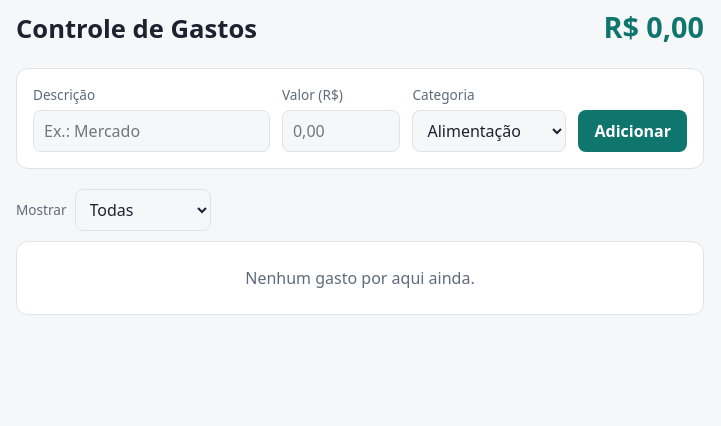
Scenario: App › mostra os erros e não adiciona nada quando o formulário está errado
Type "X" into the field labelled "Descrição" at (152, 131), box [33,110,270,152]
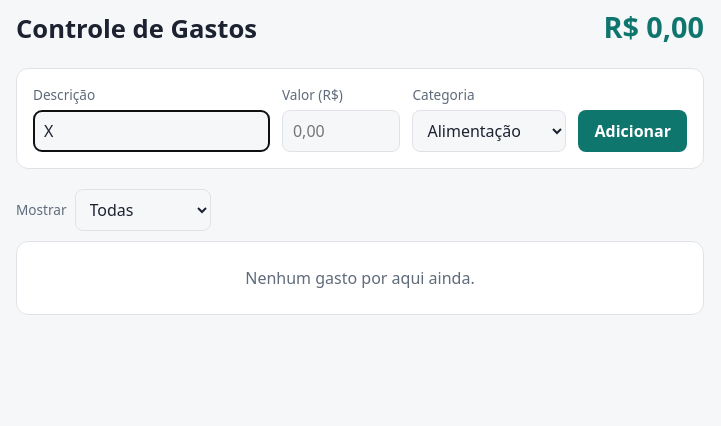
Type "abc" into the field labelled "Valor (R$)" at (341, 131), box [282,110,400,152]
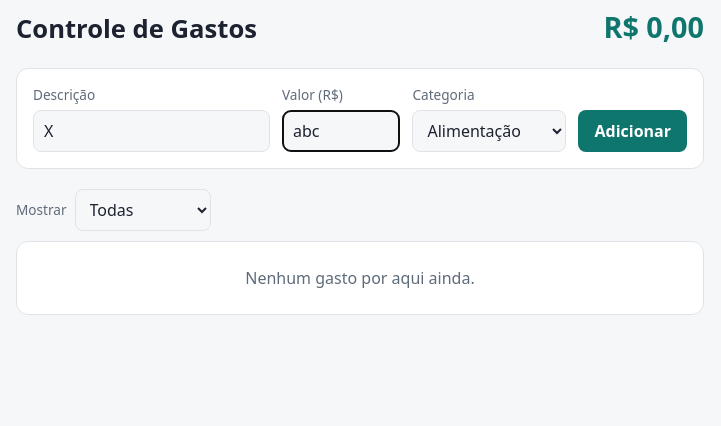
Click the button "Adicionar" at (633, 131), box [578,110,687,152]
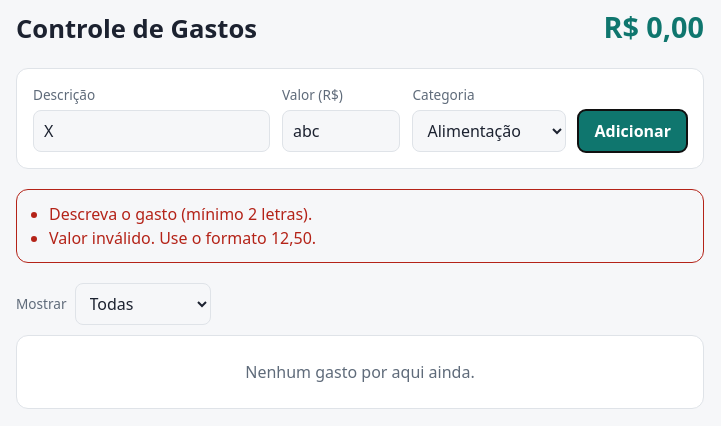
Expected: the text "Nenhum gasto por aqui ainda." is shown, [16,335,704,409]
Now the message shows "Descreva o gasto", box [49,203,312,225]
Now the message shows "Valor inválido", box [49,227,316,249]
